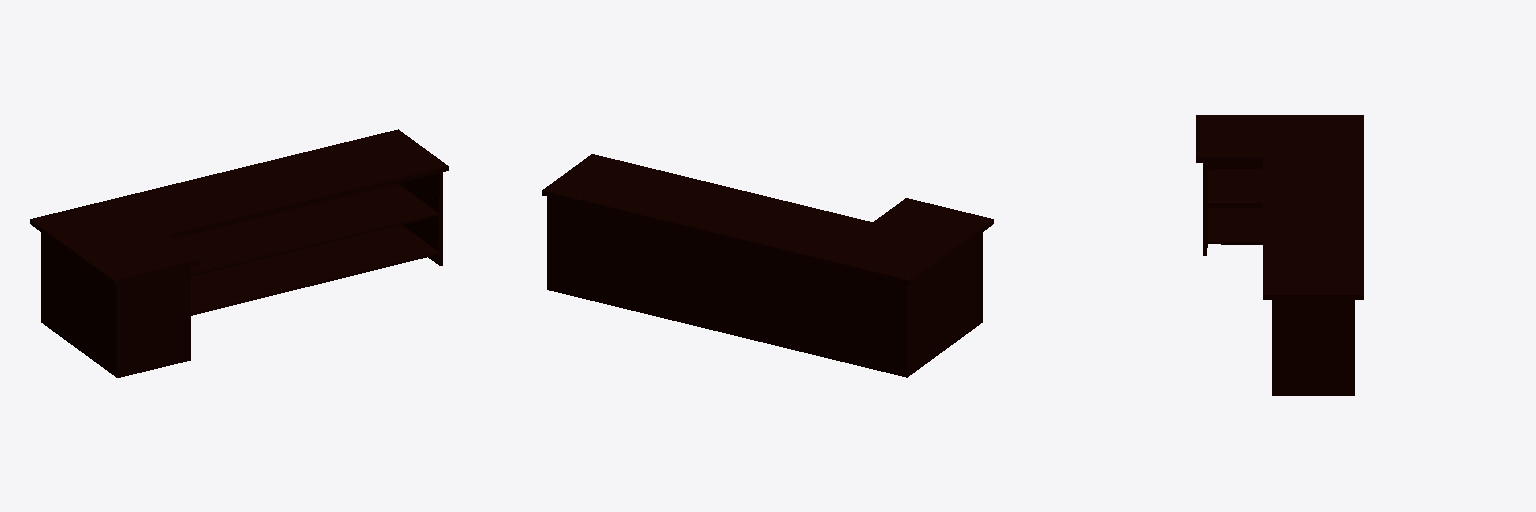
File: Tresen.obj
3 renders of one model, left to right at view 1: azimuth 30°, elevation 25°; view 2: azimuth 150°, elevation 25°; view 3: azimuth 270°, elevation 25°, orthographic.
Visible parts, largest first — view 1: Tresen; view 2: Tresen; view 3: Tresen.
Part boxes in pixels (bbox=[...]): Tresen: bbox=[30, 129, 448, 377]; Tresen: bbox=[542, 154, 993, 377]; Tresen: bbox=[1196, 115, 1363, 395].
Bounding box in the file's own units: 5.94 × 1.57 × 2.34.